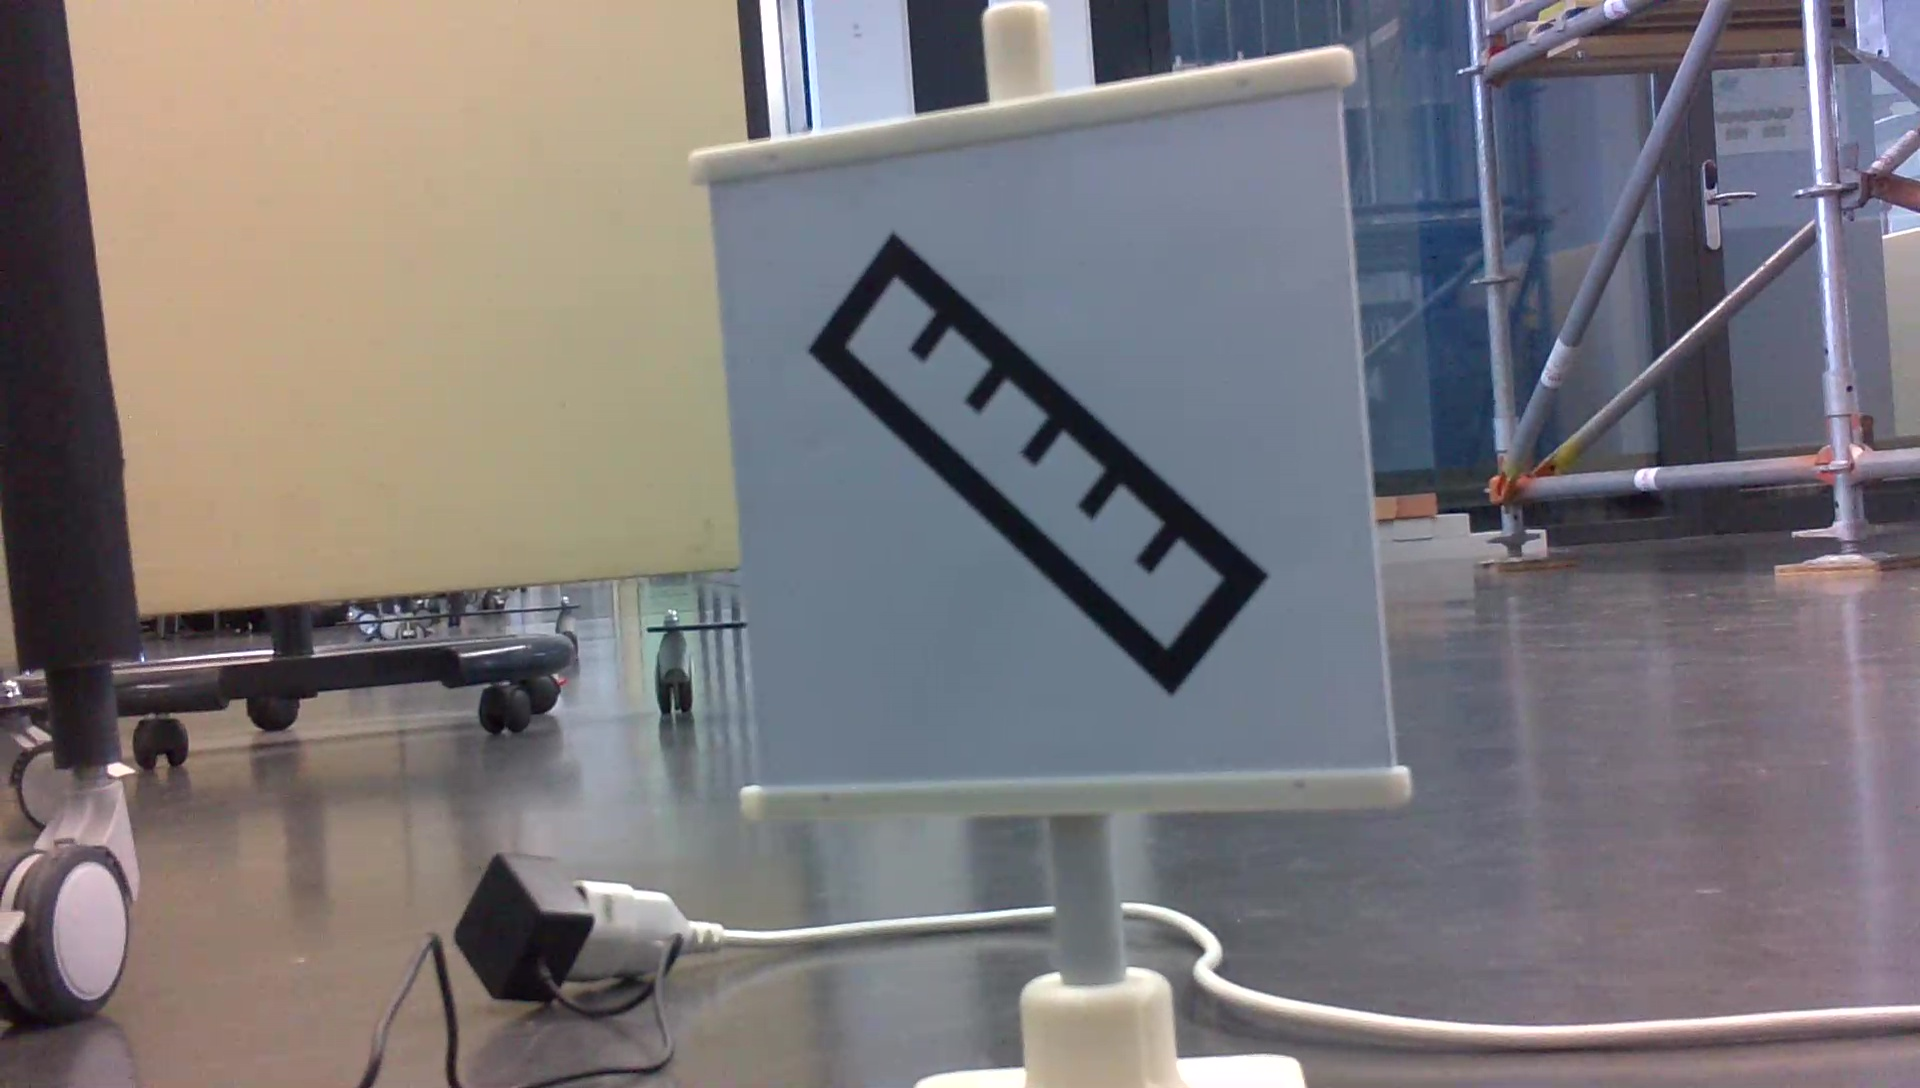ruler: (796, 220, 1288, 708)
